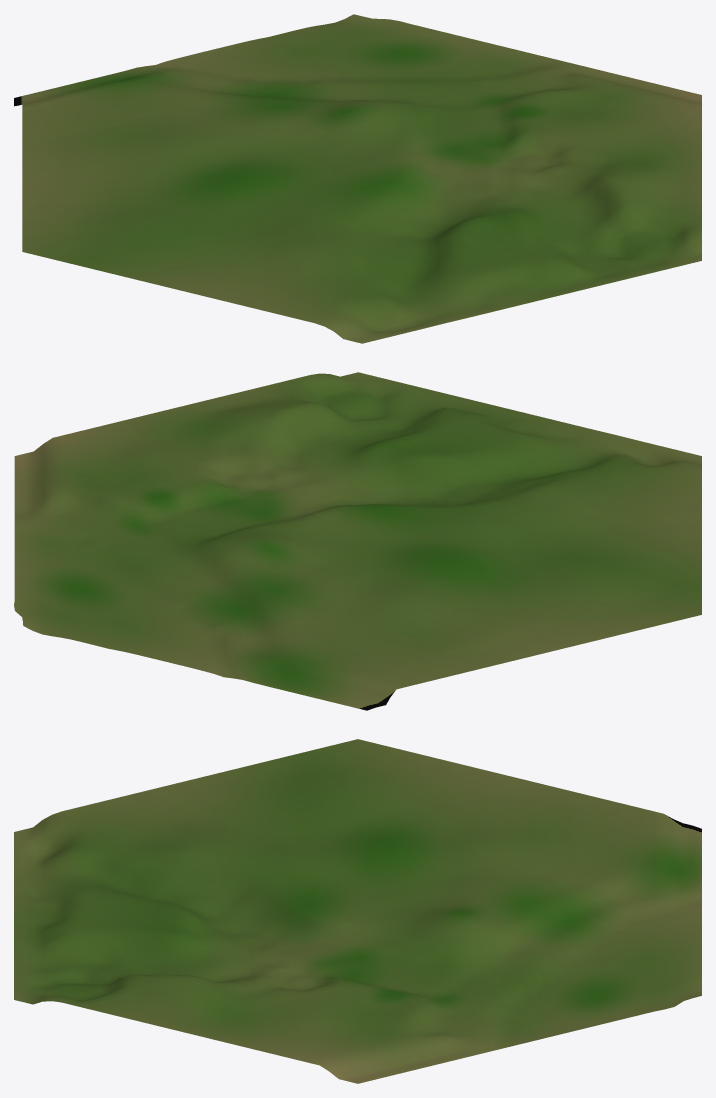
File: River3B.glb
3 renders of one model, top to bottom at view 1: azimuth 30°, elevation 25°; view 2: azimuth 150°, elevation 25°; view 3: azimuth 270°, elevation 25°, orthographic.
Visible parts, largest first — view 1: Circle; view 2: Circle; view 3: Circle.
Boxes of the visible parts, x1,y1,x2,y2 form: Circle: [14, 14, 701, 343]; Circle: [14, 372, 701, 710]; Circle: [14, 739, 701, 1083].
Size of the model in its own units: 400 by 16.54 by 346.
Materials: 1 (1 with a texture image).
